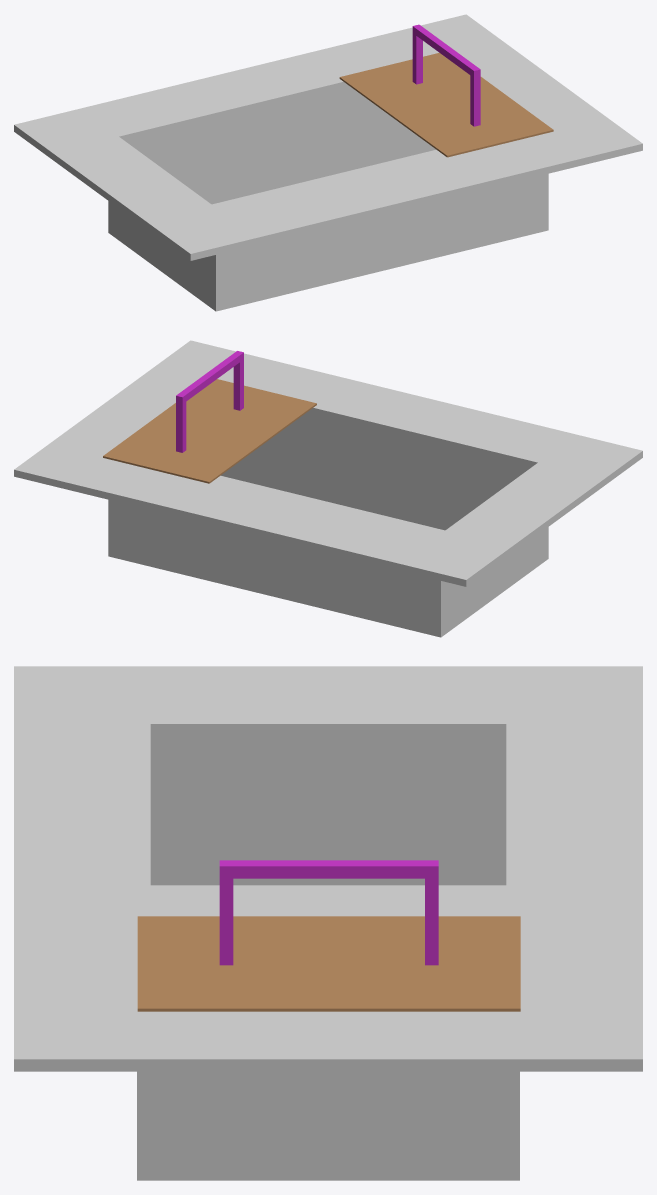
Rendered from bin.dae.
The picture shows the model from 3 angles, top to bottom: view 1: azimuth 30°, elevation 25°; view 2: azimuth 150°, elevation 25°; view 3: azimuth 270°, elevation 25°; orthographic projection. The views are drawn at different scales.
Parts seen in each view (by area): view 1: bin; view 2: bin; view 3: bin.
Boxes of the visible parts, x1,y1,x2,y2 form: bin: (14,14,642,311); bin: (14,340,642,637); bin: (14,666,642,1180).
Size of the model in its own units: 0.8636 by 0.5842 by 0.2826.
